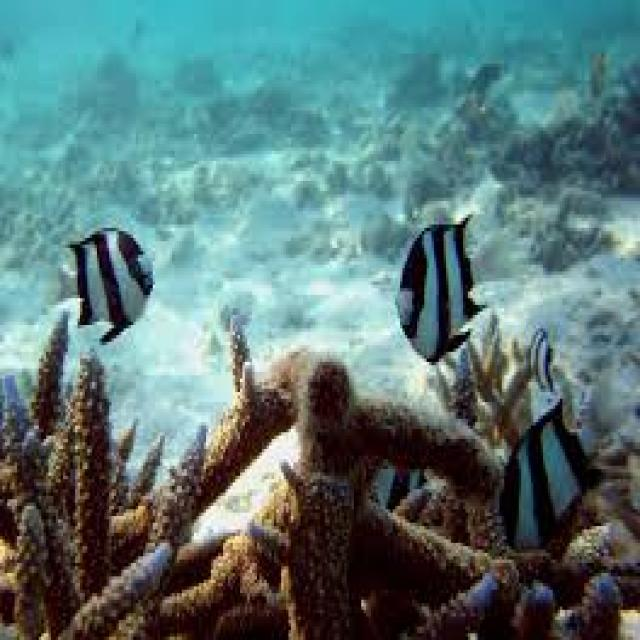Three_striped DasmselFish: (496, 393, 626, 554), (394, 210, 487, 362), (56, 224, 154, 347), (530, 323, 558, 391)
